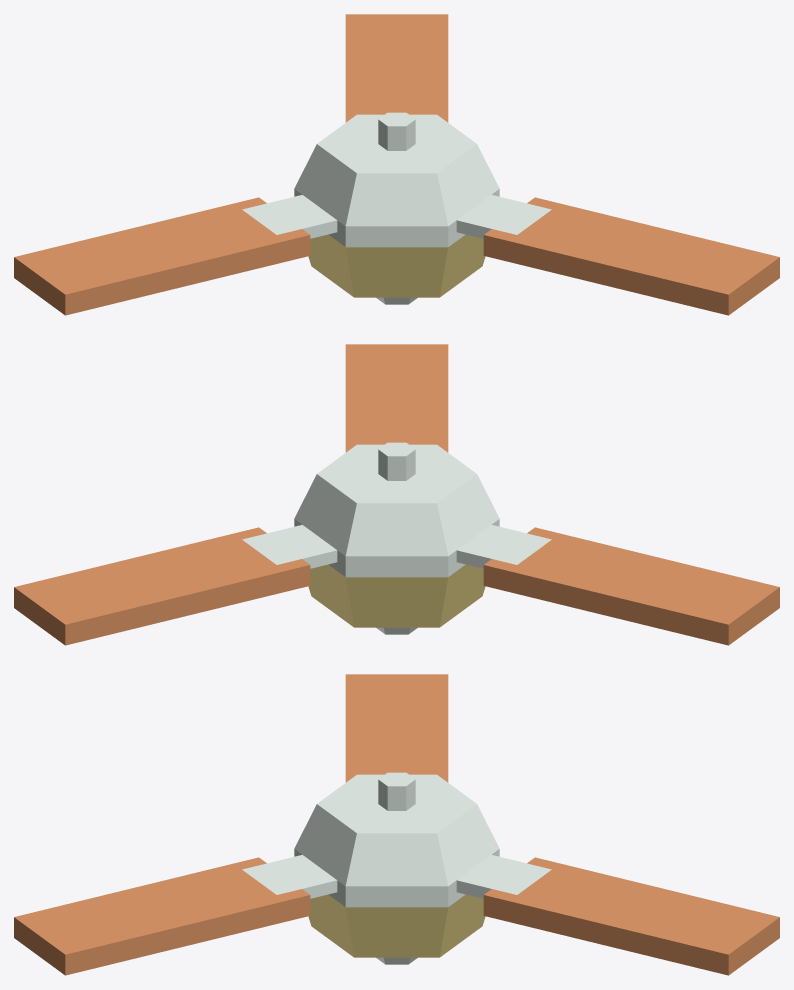
File: ceilingFan.obj
The picture shows the model from 3 angles, top to bottom: view 1: azimuth 30°, elevation 25°; view 2: azimuth 150°, elevation 25°; view 3: azimuth 270°, elevation 25°; orthographic projection.
Parts seen in each view (by area): view 1: ceilingFan; view 2: ceilingFan; view 3: ceilingFan.
Boxes of the visible parts, x1,y1,x2,y2 form: ceilingFan: [14, 14, 779, 315]; ceilingFan: [14, 344, 779, 645]; ceilingFan: [14, 674, 779, 975].
Bounding box in the file's own units: 0.4547 × 0.1337 × 0.5251.
